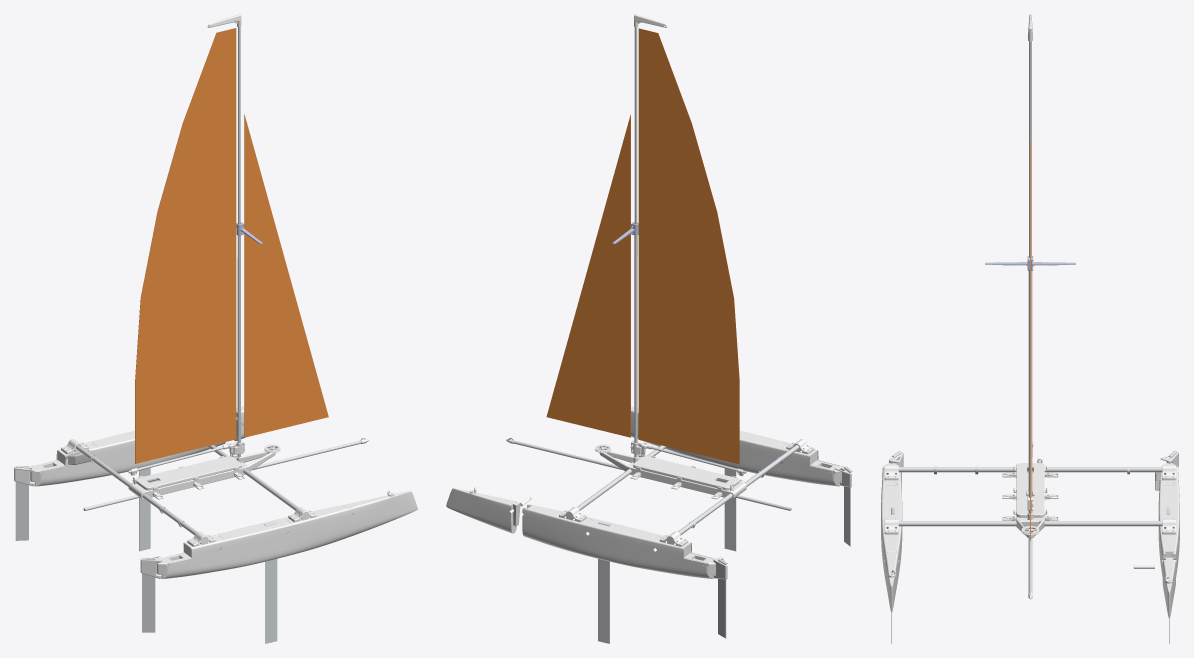
Rendered from com-tu.glb.
3 renders of one model, left to right at view 1: azimuth 30°, elevation 25°; view 2: azimuth 150°, elevation 25°; view 3: azimuth 270°, elevation 25°, orthographic. The views are drawn at different scales.
Visible parts, largest first — view 1: Major-1, floc-1, Centre Popa-1, Centre Proa MK4-1, Proa-1, Popa-1, Centre Popa-3, Popa-3, Pieza1^BARCU SENCER-2, Tapa Caixa Popa-1, Pal inferior-1, Pieza2^BARCU SENCER-2 (+8 smaller); view 2: Major-1, floc-1, Centre Popa-3, Centre Proa MK4-3, Proa-3, Centre Popa-1, Popa-3, Popa-1, Pieza1^BARCU SENCER-1, Tapa Caixa Popa-1, Pal inferior-1, Mitja Caixa Pal-1 (+6 smaller); view 3: Barra transversal-2, Barra transversal-1, Pal inferior-1, Tapa Caixa Popa-1, Centre Popa-1, Centre Popa-3, Centre Proa MK4-3, Centre Proa MK4-1, Proa-3, Proa-1, Tapa Caixa Pal-2, Pal superior-1 (+1 smaller).
Boxes of the visible parts, x1,y1,x2,y2 form: Major-1: (135,28,236,463); floc-1: (244,114,328,437); Centre Popa-1: (212,519,290,570); Centre Proa MK4-1: (279,504,352,556); Proa-1: (343,491,417,535); Popa-1: (156,535,223,578); Centre Popa-3: (85,431,160,478); Popa-3: (30,443,96,486); Pieza1^BARCU SENCER-2: (264,521,277,643); Tapa Caixa Popa-1: (175,456,241,480); Pal inferior-1: (237,235,240,457); Pieza2^BARCU SENCER-2: (15,466,28,540); Major-1: (638,28,739,464); floc-1: (546,114,630,437); Centre Popa-3: (585,519,662,570); Centre Proa MK4-3: (522,504,596,556); Proa-3: (446,488,520,533); Centre Popa-1: (714,430,789,478); Popa-3: (652,535,715,578); Popa-1: (778,443,841,486); Pieza1^BARCU SENCER-1: (598,521,610,643); Tapa Caixa Popa-1: (633,456,699,480); Pal inferior-1: (634,235,637,457); Mitja Caixa Pal-1: (662,475,746,499); Barra transversal-2: (898,521,1162,526); Barra transversal-1: (898,467,1162,472); Pal inferior-1: (1028,270,1032,513); Tapa Caixa Popa-1: (1013,484,1047,517); Centre Popa-1: (881,482,902,541); Centre Popa-3: (1158,482,1179,541); Centre Proa MK4-3: (1159,518,1179,576); Centre Proa MK4-1: (881,518,901,576); Proa-3: (1162,557,1175,618); Proa-1: (885,551,898,612); Tapa Caixa Pal-2: (1013,463,1047,484); Pal superior-1: (1029,41,1031,257).
Bounding box in the file's own units: 1.03 × 1.95 × 0.84.
